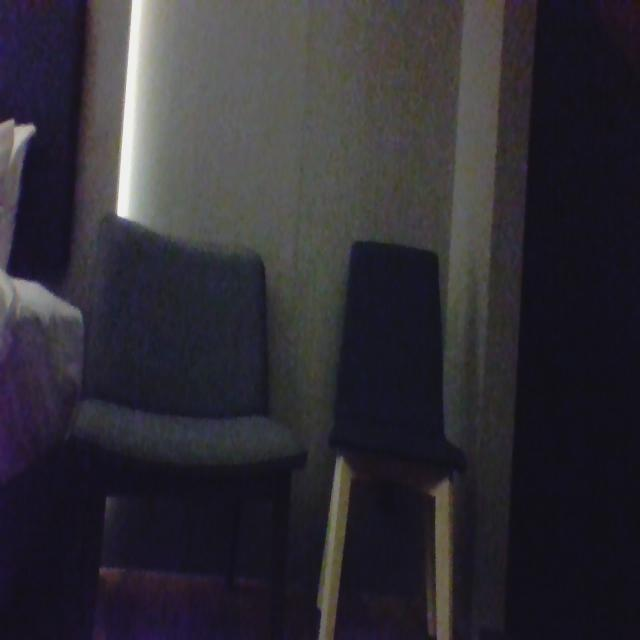empty: (98, 207, 294, 476), (341, 226, 442, 454)
